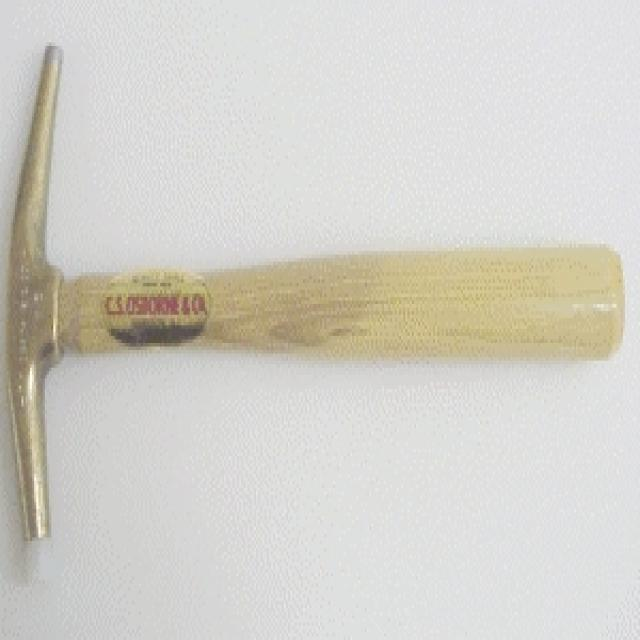hammer: (0, 26, 631, 544)
